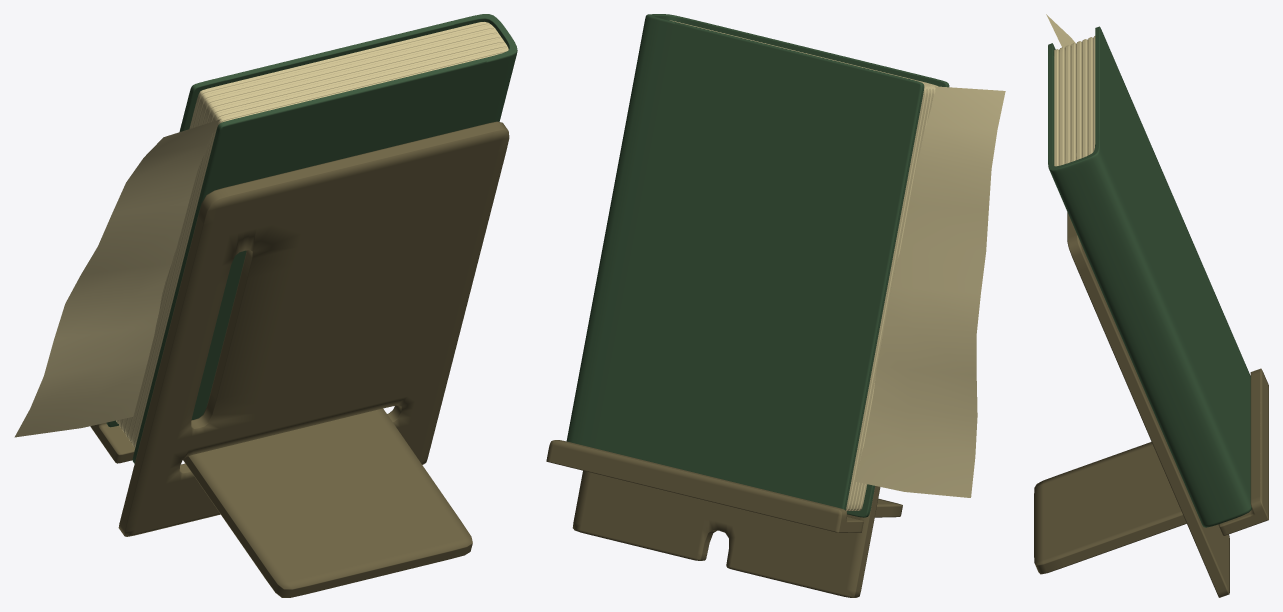
The model's file is QuranHolder.glb.
3 views of the same model, side by side, from view 1: azimuth 30°, elevation 25°; view 2: azimuth 150°, elevation 25°; view 3: azimuth 270°, elevation 25° (orthographic). The views are drawn at different scales.
Visible parts, largest first — view 1: QuranHolder(SecondPiece); view 2: QuranHolder(SecondPiece); view 3: QuranHolder(SecondPiece).
Boxes of the visible parts, box(x1,y1,x2,y2) form: QuranHolder(SecondPiece): box(14, 14, 517, 597); QuranHolder(SecondPiece): box(546, 14, 1005, 597); QuranHolder(SecondPiece): box(1034, 14, 1268, 597).
Size of the model in its own units: 0.1954 by 0.2228 by 0.1065.
